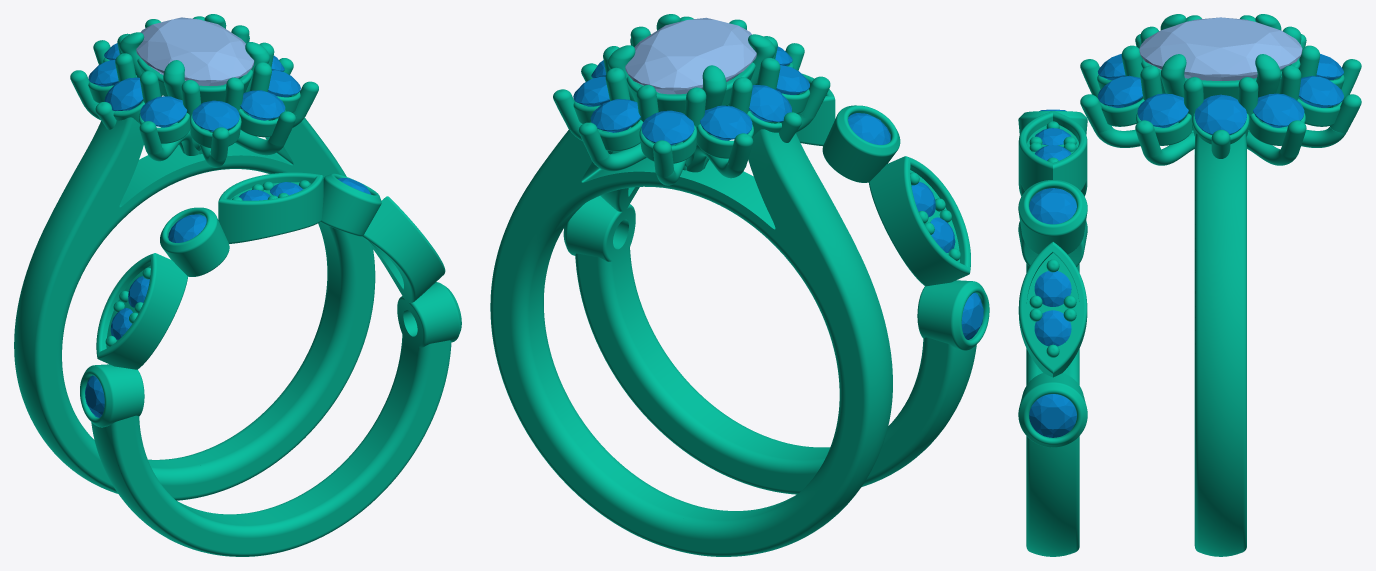
3 renders of one model, left to right at view 1: azimuth 30°, elevation 25°; view 2: azimuth 150°, elevation 25°; view 3: azimuth 270°, elevation 25°, orthographic. The views are drawn at different scales.
Visible parts, largest first — view 1: VR742 27.8.25(front).3dm, Bezel (×8), Diamond_Round (×8), Diamond_Oval; view 2: VR742 27.8.25(front).3dm, Bezel (×7), Diamond_Round (×8), Diamond_Oval; view 3: VR742 27.8.25(front).3dm, Diamond_Round (×12), Bezel (×10), Diamond_Oval.
Part boxes in pixels (<box>): VR742 27.8.25(front).3dm: <box>14,14,451,556</box>; Bezel (×8): <box>80,57,461,427</box>; Diamond_Round (×8): <box>85,59,300,417</box>; Diamond_Oval: <box>136,17,254,85</box>; VR742 27.8.25(front).3dm: <box>490,14,976,556</box>; Bezel (×7): <box>563,62,989,350</box>; Diamond_Round (×8): <box>573,65,983,339</box>; Diamond_Oval: <box>625,17,756,94</box>; VR742 27.8.25(front).3dm: <box>1018,14,1361,556</box>; Diamond_Round (×12): <box>1029,54,1343,437</box>; Bezel (×10): <box>1018,58,1343,447</box>; Diamond_Oval: <box>1139,17,1302,80</box>.
Size of the model in its own units: 2.3 by 2.78 by 1.72.
